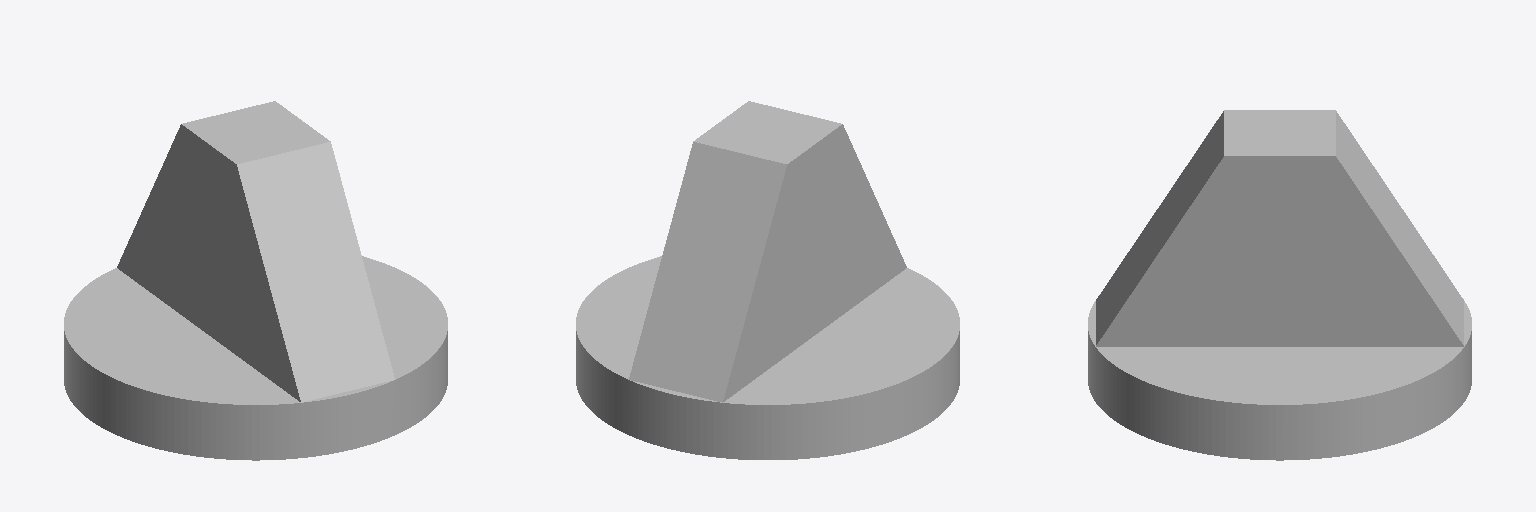
The model's file is InchwormFoot.obj.
The picture shows the model from 3 angles: view 1: azimuth 30°, elevation 25°; view 2: azimuth 150°, elevation 25°; view 3: azimuth 270°, elevation 25°; orthographic projection.
Visible parts, largest first — view 1: Inchworm_Foot_Inchworm_Foot.002; view 2: Inchworm_Foot_Inchworm_Foot.002; view 3: Inchworm_Foot_Inchworm_Foot.002.
Part boxes in pixels (x1,y1,x2,y2): Inchworm_Foot_Inchworm_Foot.002: (64,101,447,460); Inchworm_Foot_Inchworm_Foot.002: (576,101,959,459); Inchworm_Foot_Inchworm_Foot.002: (1088,110,1471,460).
Size of the model in its own units: 0.0692 by 0.0489 by 0.0692.